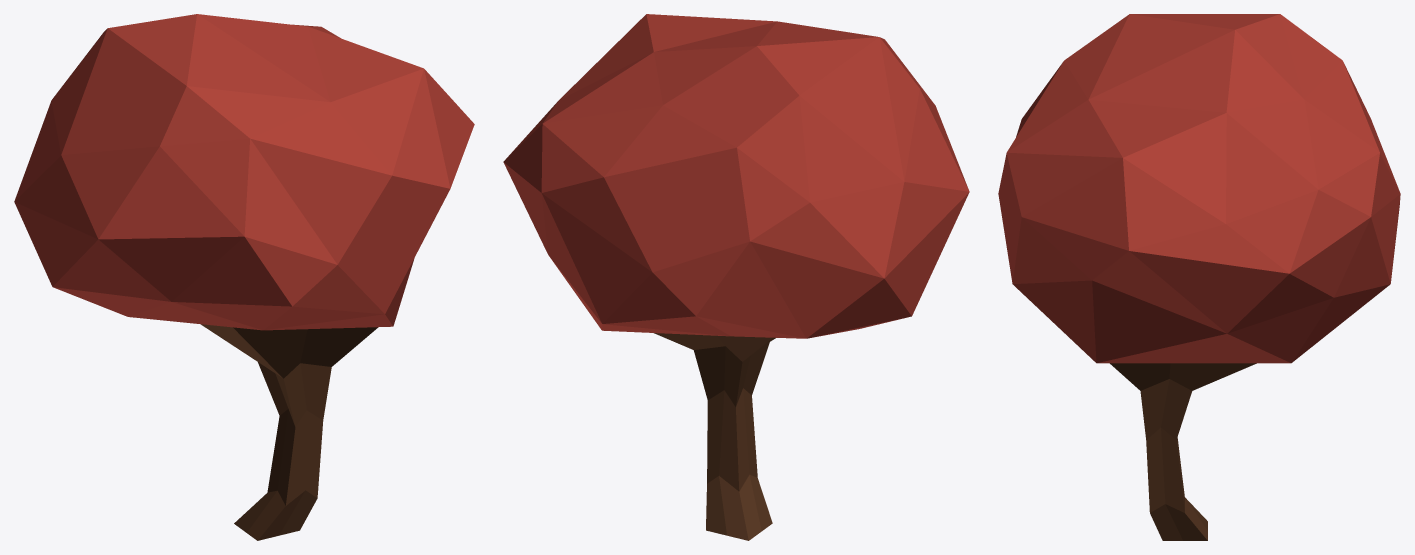
The model's file is Tree_35_Red.fbx.
The picture shows the model from 3 angles, left to right: view 1: azimuth 30°, elevation 25°; view 2: azimuth 150°, elevation 25°; view 3: azimuth 270°, elevation 25°; orthographic projection. The views are drawn at different scales.
Parts seen in each view (by area): view 1: Tree_35_Red_Part_1, Tree_35_Red_Part_2; view 2: Tree_35_Red_Part_1, Tree_35_Red_Part_2; view 3: Tree_35_Red_Part_1, Tree_35_Red_Part_2.
Boxes of the visible parts, <box> form: Tree_35_Red_Part_1: <box>14,14,474,330</box>; Tree_35_Red_Part_2: <box>201,324,377,540</box>; Tree_35_Red_Part_1: <box>503,14,969,338</box>; Tree_35_Red_Part_2: <box>654,333,775,540</box>; Tree_35_Red_Part_1: <box>998,14,1400,363</box>; Tree_35_Red_Part_2: <box>1110,363,1256,540</box>.
Size of the model in its own units: 636 by 815 by 618.
